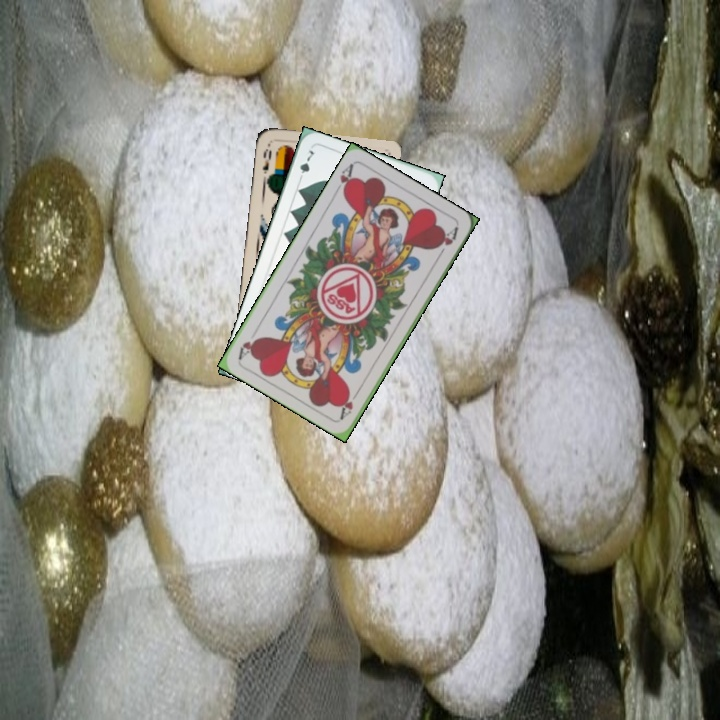EO: (258, 144, 274, 176)
G7: (295, 146, 316, 184)
HA: (331, 160, 357, 199), (336, 385, 363, 421)
